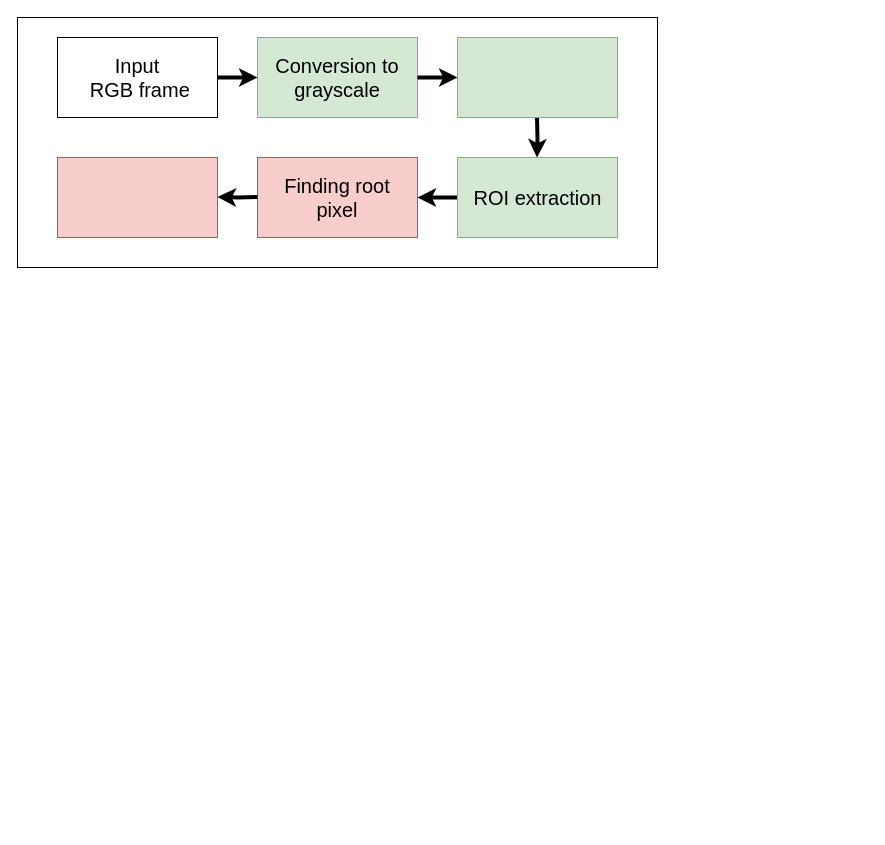
Image size: 885x845. Some labels were removed from this diagram. Here are the shapes that lost their labels. From the top down, the box of each, then its label:
(456, 36, 618, 118): Blurring
(56, 156, 218, 238): Tree search algorithm
